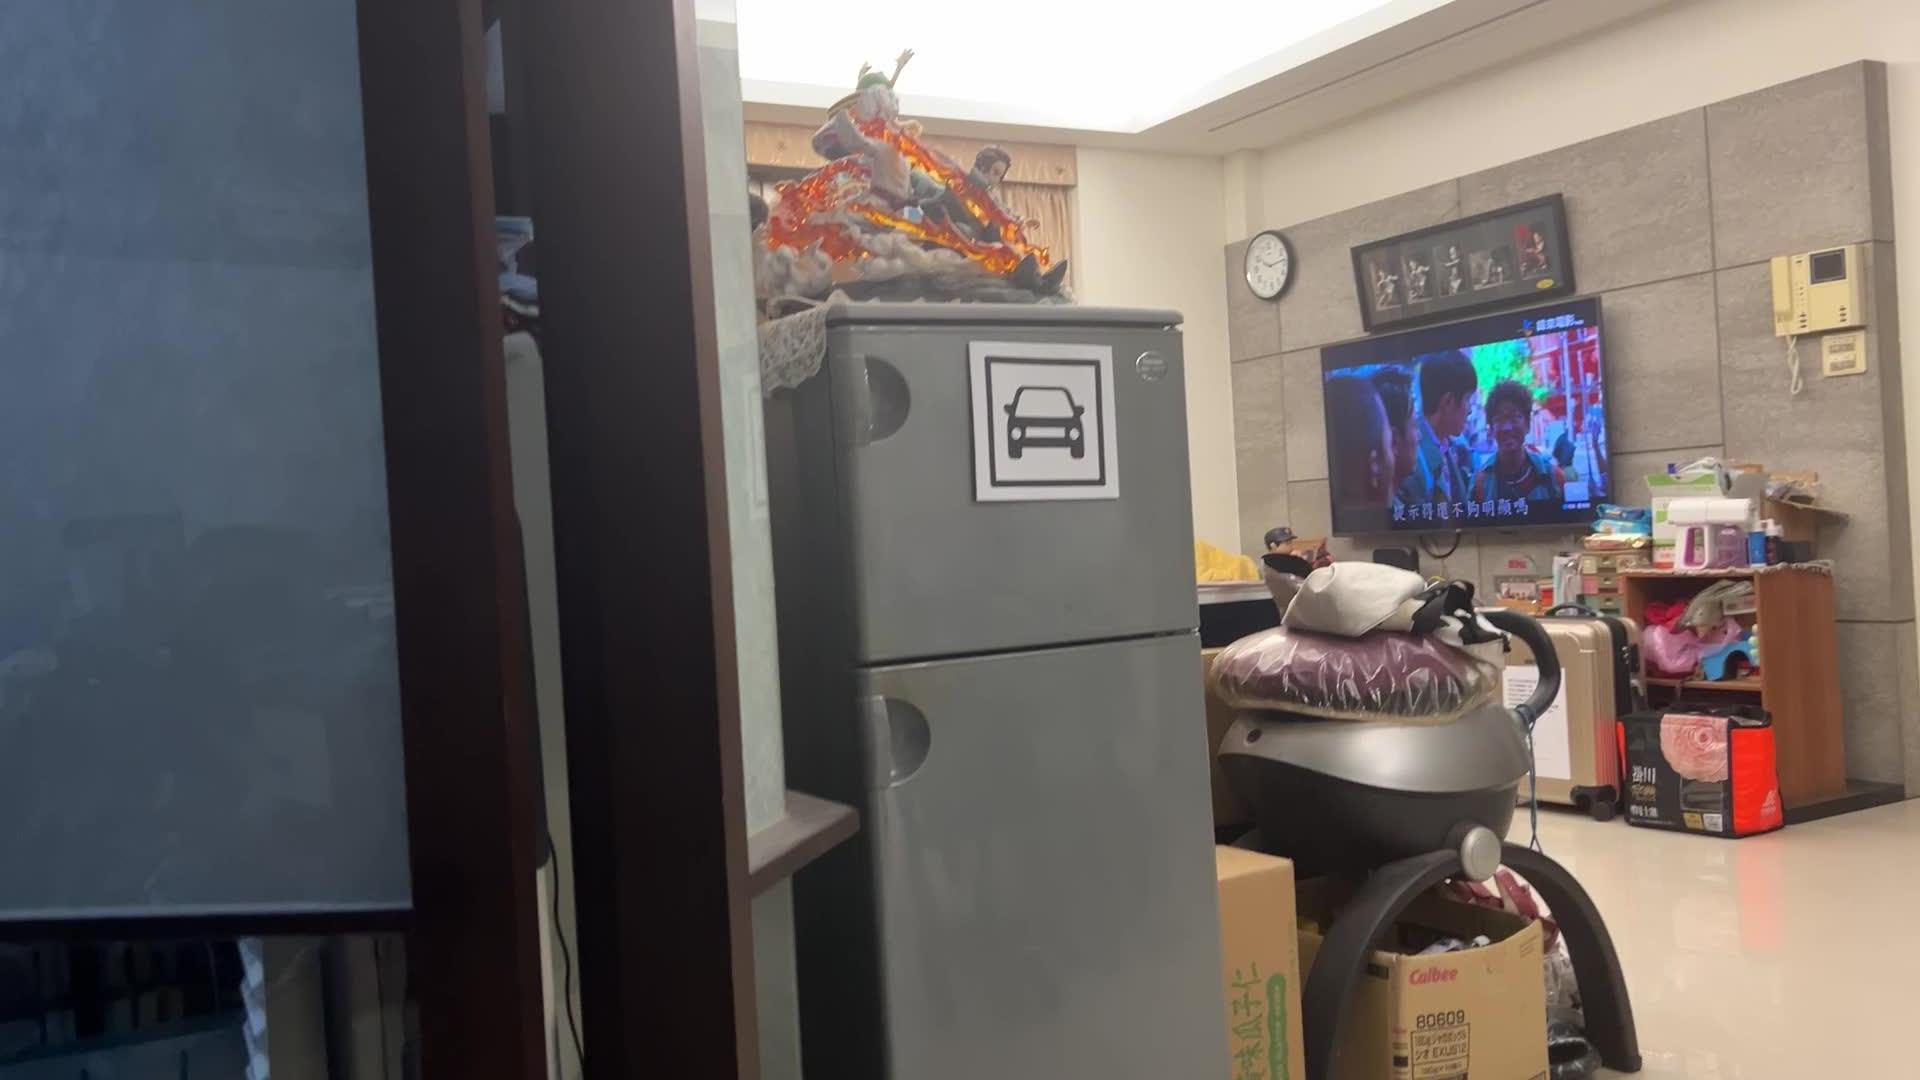car_img: (981, 353, 1108, 489)
